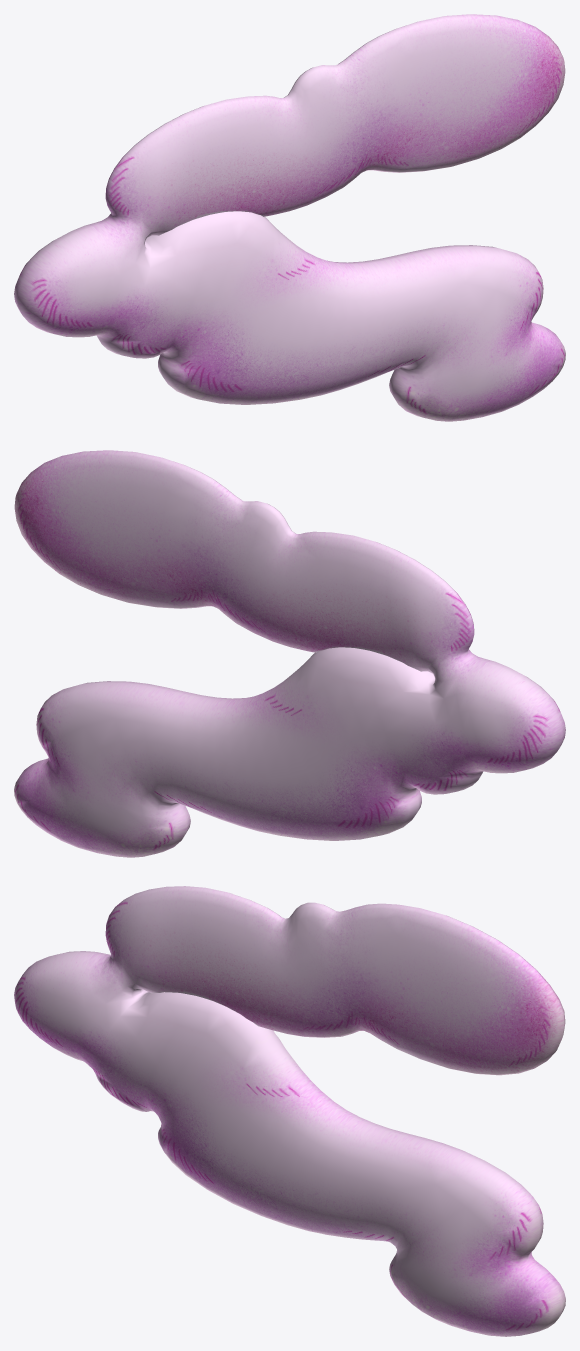
The model's file is Cloud_C.obj.
The picture shows the model from 3 angles, top to bottom: view 1: azimuth 30°, elevation 25°; view 2: azimuth 150°, elevation 25°; view 3: azimuth 330°, elevation 25°; orthographic projection.
Parts seen in each view (by area): view 1: Cloud_C; view 2: Cloud_C; view 3: Cloud_C.
Boxes of the visible parts, x1=… form: Cloud_C: x1=14, y1=14, x2=565, y2=421; Cloud_C: x1=14, y1=450, x2=565, y2=857; Cloud_C: x1=14, y1=886, x2=565, y2=1336.
Bounding box in the file's own units: 187 × 133 × 22.31.
1 material, 1 textured.
